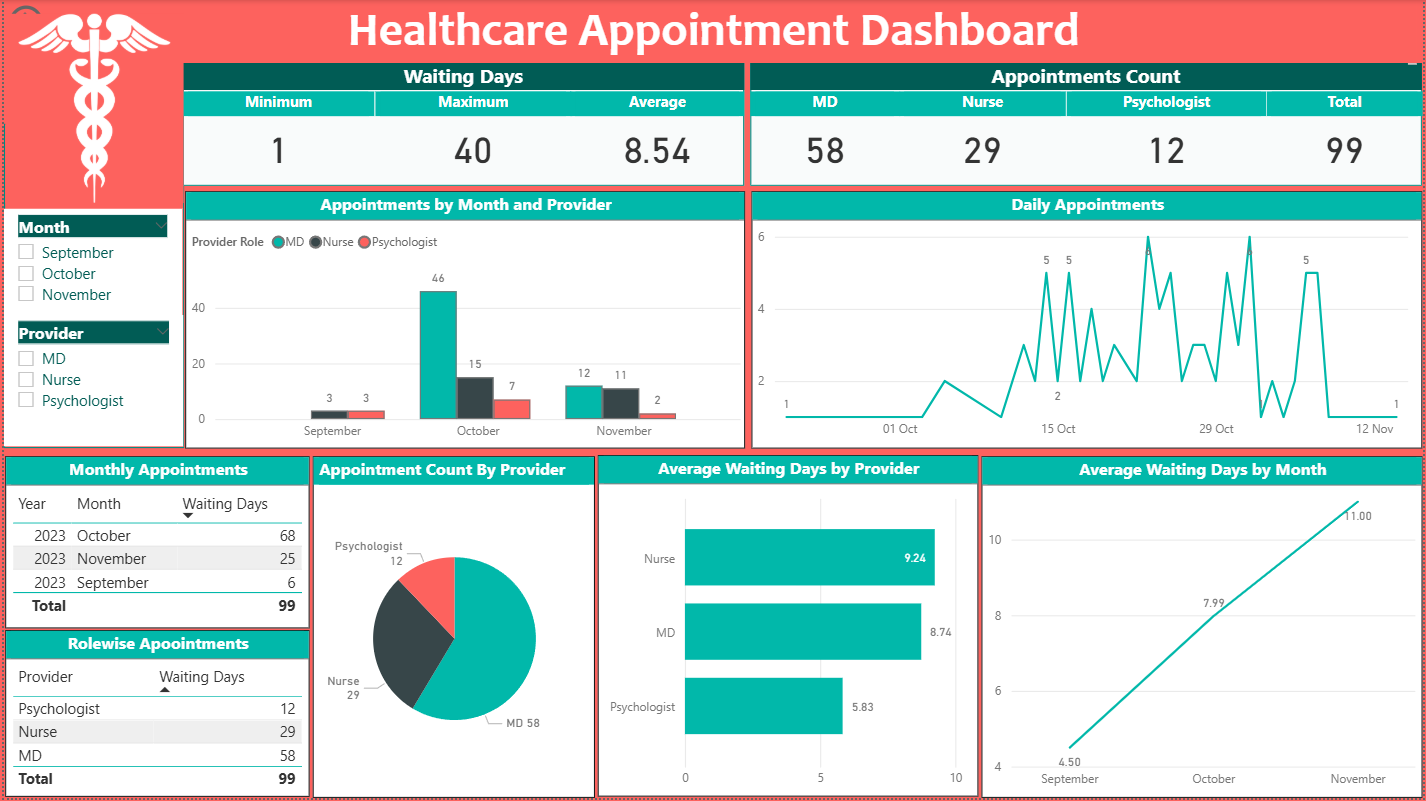

The page's visual inventory and layout, read from the dashboard file:
{"tool":"powerbi","page":{"name":"Page 1","canvas":[1280,720],"ordinal":0},"visuals":[{"type":"shape","box":[161.2,55.8,506.3,111.3],"z":0,"group":"g2"},{"type":"shape","box":[673.1,55.8,605.7,111.3],"z":0,"group":"g1"},{"type":"shape","box":[0,111.2,162.5,292.5],"z":0},{"type":"group","id":"g1","title":"Group 1","box":[673.1,55.8,605.6,111.2],"z":1000},{"type":"group","id":"g2","title":"Group 1","box":[161.2,55.8,506.2,111.2],"z":2000},{"type":"textbox","title":"Healthcare Appointment Dashboard","box":[1.2,0,1277.5,63.4],"z":3000},{"type":"clusteredColumnChart","title":"Appointments by Month and Provider","fields":{"Category":["Appointment Scheduling Cleaned Data.Appointment date.Variation.Date Hierarchy.Month"],"Y":["CountNonNull(Appointment Scheduling Cleaned Data.waiting_days.1)"],"Series":["Appointment Scheduling Cleaned Data.Provider Role"]},"box":[162.9,172.3,505,231.7],"z":4000},{"type":"lineChart","title":"Daily Appointments","fields":{"Y":["CountNonNull(Appointment Scheduling Cleaned Data.waiting_days.1)"],"Category":["Appointment Scheduling Cleaned Data.Appointment date.Variation.Date Hierarchy.Year","Appointment Scheduling Cleaned Data.Appointment date.Variation.Date Hierarchy.Quarter","Appointment Scheduling Cleaned Data.Appointment date.Variation.Date Hierarchy.Month","Appointment Scheduling Cleaned Data.Appointment date.Variation.Date Hierarchy.Day"]},"box":[673.8,172.3,605,231.7],"z":5000},{"type":"pieChart","title":"Appointment Count By Provider","fields":{"Category":["Appointment Scheduling Cleaned Data.Provider Role"],"Y":["CountNonNull(Appointment Scheduling Cleaned Data.waiting_days.1)"]},"box":[278.9,411.1,254.4,307.8],"z":6000},{"type":"tableEx","title":"Monthly Appointments","fields":{"Values":["Appointment Scheduling Cleaned Data.Appointment date.Variation.Date Hierarchy.Year","Appointment Scheduling Cleaned Data.Appointment date.Variation.Date Hierarchy.Month","Appointment Scheduling Cleaned Data.waiting_days"]},"box":[1.3,411.3,274.7,154.9],"z":7000},{"type":"tableEx","title":"Rolewise Apoointments","fields":{"Values":["Appointment Scheduling Cleaned Data.Provider Role","Appointment Scheduling Cleaned Data.waiting_days"]},"box":[1.4,568.6,274.3,150],"z":8000},{"type":"actionButton","box":[0,0,99.8,39.9],"z":9000},{"type":"slicer","fields":{"Values":["Appointment Scheduling Cleaned Data.Provider Role"]},"box":[0,283.6,161.7,118.2],"z":10000},{"type":"slicer","fields":{"Values":["Appointment Scheduling Cleaned Data.Appointment date.Variation.Date Hierarchy.Month"]},"box":[0,187.8,160.5,95.8],"z":11000},{"type":"card","title":"Minimum","fields":{"Values":["Min(Appointment Scheduling Cleaned Data.waiting_days.1)"]},"box":[161.2,82.1,172.5,85],"z":12000},{"type":"barChart","title":"Average Waiting Days by Provider","fields":{"Category":["Appointment Scheduling Cleaned Data.Provider Role"],"Y":["Avg(Appointment Scheduling Cleaned Data.waiting_days.1)"]},"box":[535.8,410.8,343,308.3],"z":13000},{"type":"lineChart","title":"Average Waiting Days by Month","fields":{"Category":["Appointment Scheduling Cleaned Data.Appointment date.Variation.Date Hierarchy.Month"],"Y":["Avg(Appointment Scheduling Cleaned Data.waiting_days.1)"]},"box":[881.1,411.1,397.8,307.8],"z":14000},{"type":"card","title":"Maximum","fields":{"Values":["Max(Appointment Scheduling Cleaned Data.waiting_days.1)"]},"box":[334.4,82.1,176.9,85],"z":15000},{"type":"card","title":"Average","fields":{"Values":["Avg(Appointment Scheduling Cleaned Data.waiting_days.1)"]},"box":[510.6,82.1,156.9,85],"z":16000},{"type":"card","title":"MD ","fields":{"Values":["CountNonNull(Appointment Scheduling Cleaned Data.Provider Role)"]},"box":[673.1,82.1,134.4,85],"z":17000},{"type":"card","title":"Nurse ","fields":{"Values":["CountNonNull(Appointment Scheduling Cleaned Data.Provider Role)"]},"box":[807.5,82.1,150.6,85],"z":18000},{"type":"card","title":"Psychologist ","fields":{"Values":["CountNonNull(Appointment Scheduling Cleaned Data.Provider Role)"]},"box":[958.1,82.1,180,85],"z":19000},{"type":"textbox","title":"Waiting Days","box":[161.3,55.8,506,24.9],"z":20000,"group":"g2"},{"type":"textbox","title":"Appointments Count","box":[673.3,55.8,605.3,24.9],"z":20000,"group":"g1"},{"type":"card","title":"Total ","fields":{"Values":["CountNonNull(Appointment Scheduling Cleaned Data.Provider Role)"]},"box":[1138.1,82.1,140.6,85],"z":20000},{"type":"image","box":[1.2,12.4,160.5,170.2],"z":21000}]}

Visuals, with their boxes in screenshot pixels (x1, y1, x2, y2), scaled from the page's 1280x720 canvas onto the 1426x801 screenshot:
shape: 180:62:744:186
shape: 750:62:1425:186
shape: 0:124:181:449
"Group 1" group: 750:62:1425:186
"Group 1" group: 180:62:744:186
"Healthcare Appointment Dashboard" textbox: 1:0:1425:71
"Appointments by Month and Provider" clusteredColumnChart: 181:192:744:449
"Daily Appointments" lineChart: 751:192:1425:449
"Appointment Count By Provider" pieChart: 311:457:594:800
"Monthly Appointments" tableEx: 1:458:307:630
"Rolewise Apoointments" tableEx: 2:633:307:799
actionButton: 0:0:111:44
slicer - Appointment Scheduling Cleaned Data.Provider Role: 0:316:180:447
slicer - Appointment Scheduling Cleaned Data.Appointment date.Variation.Date Hierarchy.Month: 0:209:179:316
"Minimum" card: 180:91:372:186
"Average Waiting Days by Provider" barChart: 597:457:979:800
"Average Waiting Days by Month" lineChart: 982:457:1425:800
"Maximum" card: 373:91:570:186
"Average" card: 569:91:744:186
"MD " card: 750:91:900:186
"Nurse " card: 900:91:1067:186
"Psychologist " card: 1067:91:1268:186
"Waiting Days" textbox: 180:62:743:90
"Appointments Count" textbox: 750:62:1424:90
"Total " card: 1268:91:1425:186
image: 1:14:180:203
